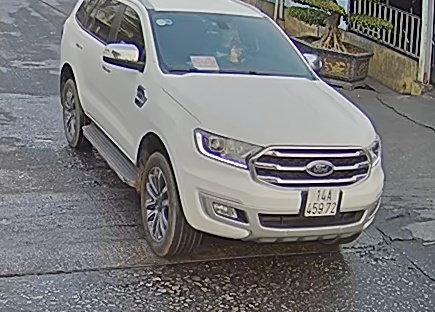vehicle plate: (302, 185, 339, 218)
